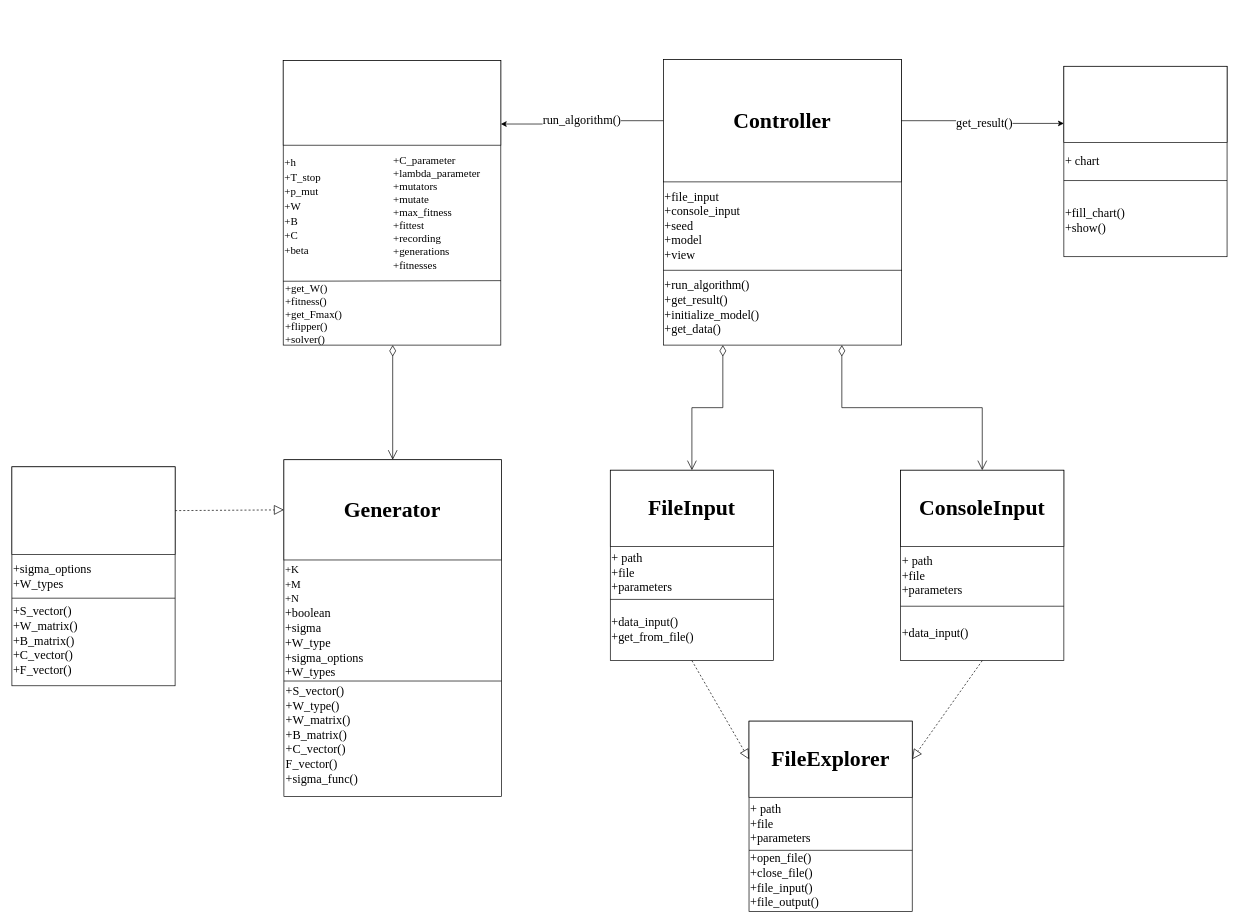
The diagram is 1240 pixels wide and 923 high, and some of its shapes have lost their labels. Here are the shapes that lost their labels. From the top down, the centre of each, then its label:
(x=392, y=102): Solver
(x=1145, y=104): View
(x=93, y=510): IGenerator
